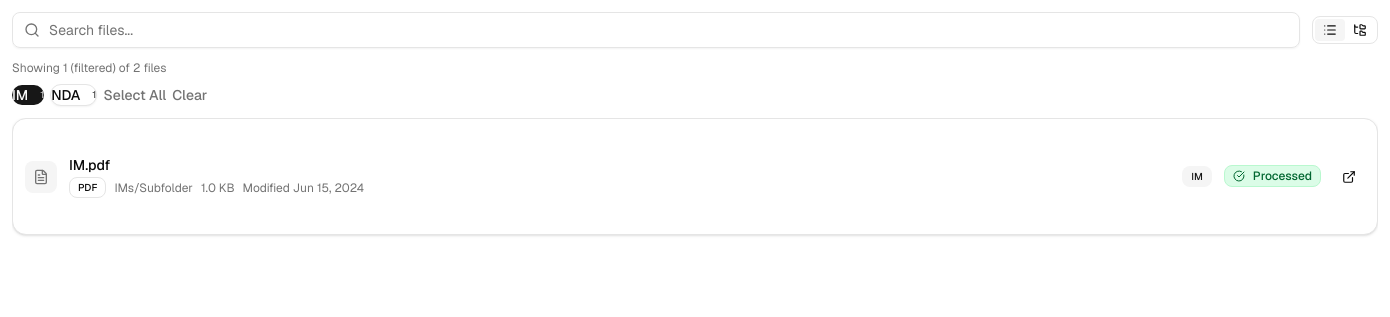
Scenario: VirtualFilesList › file type filter pills › clears filters when Clear button is clicked
The image size is (1390, 317).
Expected: the text "IM.pdf" is shown, top-left (69, 156), bottom-right (110, 174)
Expected: the text "NDA.pdf" is not shown
Note: Clear the default filter
Click the button "Clear": (190, 95) top-left (172, 85), bottom-right (207, 105)
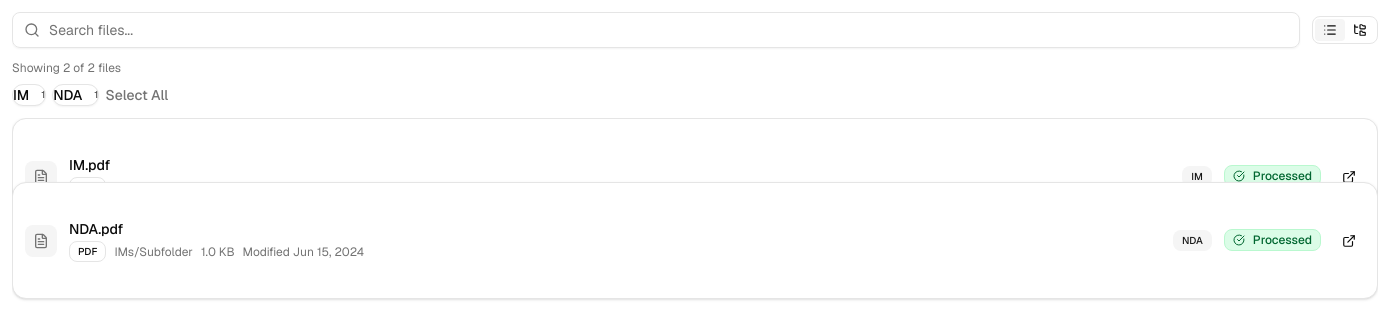
Expected: the text "IM.pdf" is shown, top-left (69, 156), bottom-right (110, 174)
Result: the text "NDA.pdf" is shown at top-left (69, 220), bottom-right (123, 238)
